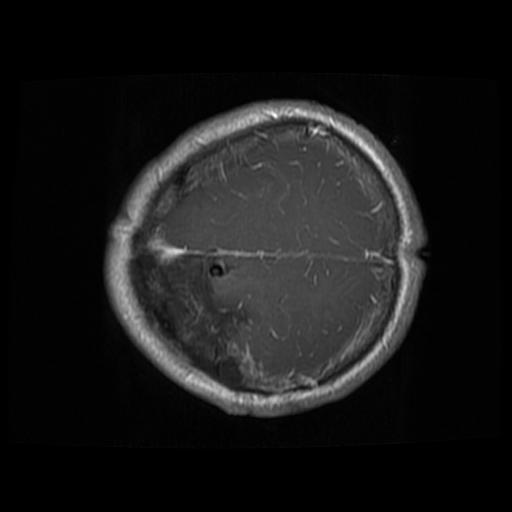glioma: (135, 235, 247, 386)
